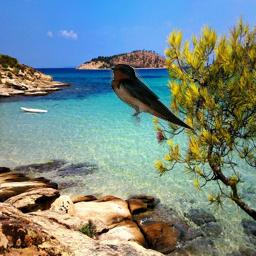Swallow: (108, 62, 196, 132)
